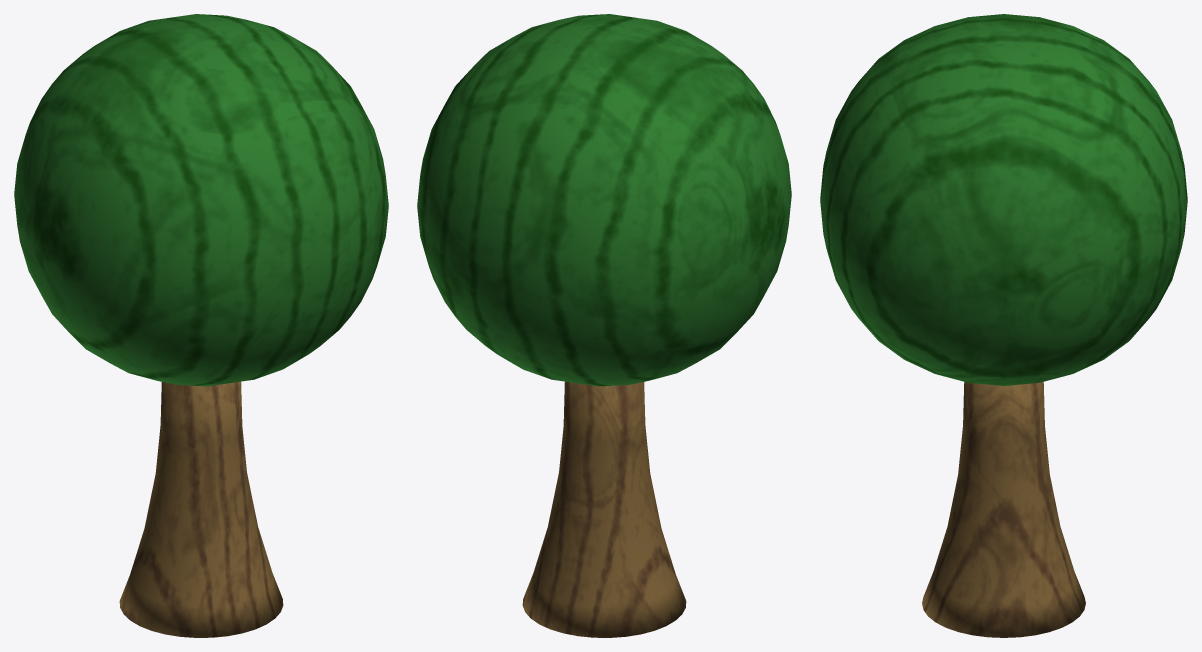
Rendered from WoodTree2.glb.
3 views of the same model, side by side, from view 1: azimuth 30°, elevation 25°; view 2: azimuth 150°, elevation 25°; view 3: azimuth 270°, elevation 25° (orthographic).
Visible parts, largest first — view 1: WoodTree2, WoodTree2_bark; view 2: WoodTree2, WoodTree2_bark; view 3: WoodTree2, WoodTree2_bark.
Boxes of the visible parts, <box> form: WoodTree2: <box>14,14,388,386</box>; WoodTree2_bark: <box>119,381,283,637</box>; WoodTree2: <box>417,14,791,386</box>; WoodTree2_bark: <box>522,381,686,637</box>; WoodTree2: <box>820,14,1187,385</box>; WoodTree2_bark: <box>922,382,1085,637</box>.
Size of the model in its own units: 3.76 by 6.43 by 3.76.
2 materials, 2 textured.
